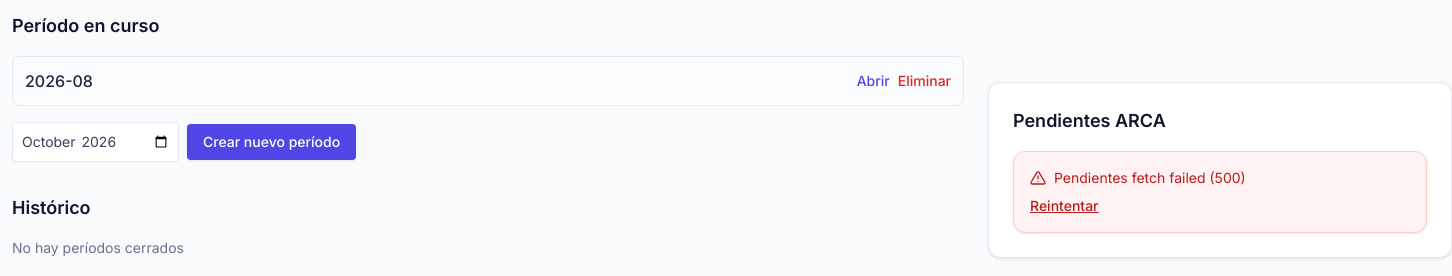
Test: DashboardShell › Section C: si getPendientesHistorico falla, muestra error con reintentar y deja de mostrar "Cargando" (RF-29)
This screenshot has width=1452, height=276.
Expected: the message shows "Pendientes fetch failed (500)", x1=1054 y1=169 x2=1246 y2=186
What coordinates should you click on to do the following:
click the button "Reintentar"
I would click on:
 (1064, 206)
Its box is x1=1030 y1=196 x2=1098 y2=216.
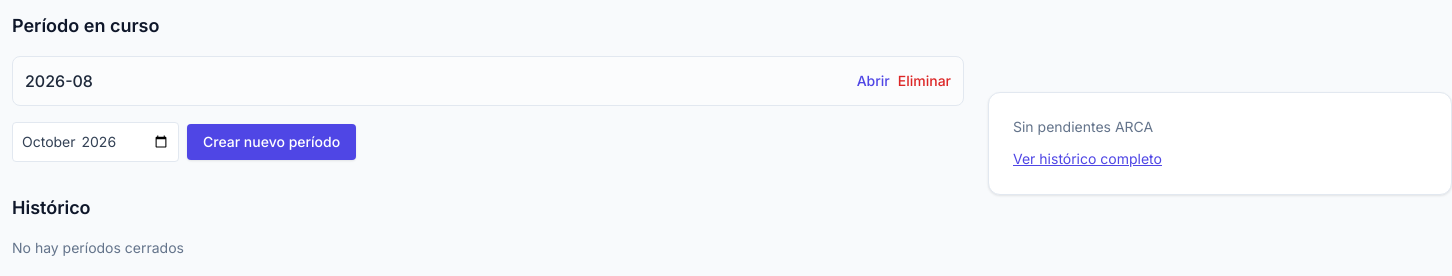
Expected: the text "Sin pendientes ARCA" is shown, x1=1013 y1=118 x2=1153 y2=135
Expected: the message "Pendientes fetch failed (500) Reintentar" is gone
